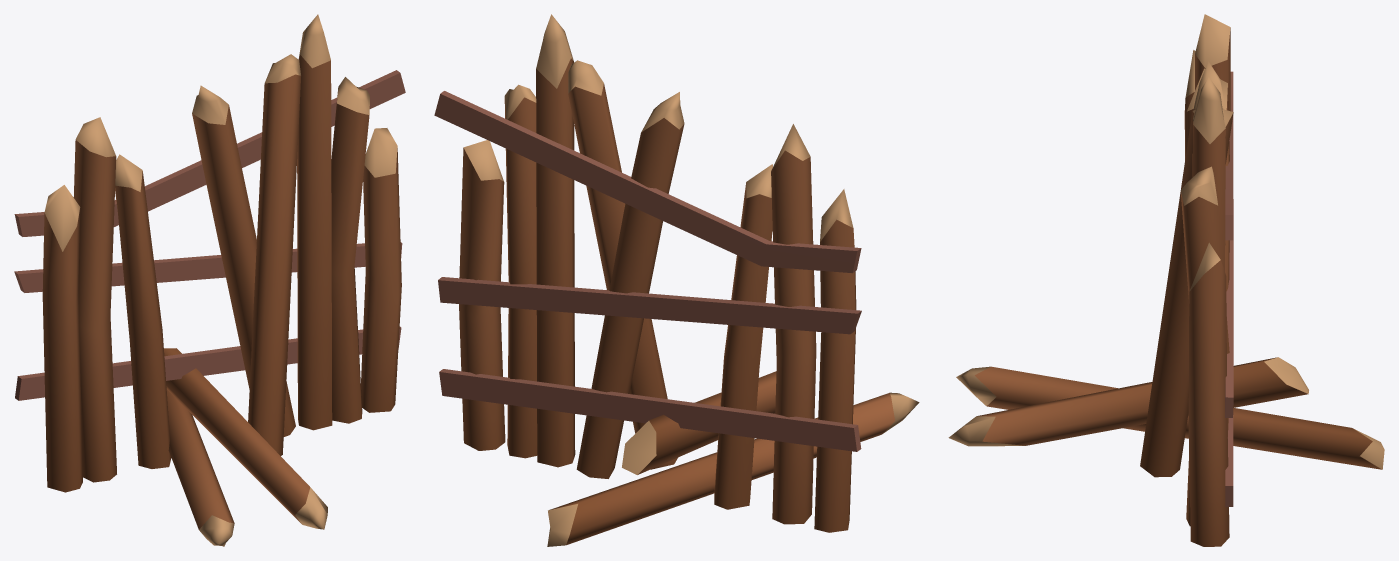
Rendered from Fence_WoodC_E.fbx.
3 views of the same model, side by side, from view 1: azimuth 30°, elevation 25°; view 2: azimuth 150°, elevation 25°; view 3: azimuth 270°, elevation 25° (orthographic). The views are drawn at different scales.
Visible parts, largest first — view 1: Fence_WoodC_E; view 2: Fence_WoodC_E; view 3: Fence_WoodC_E.
Boxes of the visible parts, x1,y1,x2,y2 form: Fence_WoodC_E: (14, 14, 405, 546); Fence_WoodC_E: (434, 14, 919, 546); Fence_WoodC_E: (948, 14, 1384, 546).
Size of the model in its own units: 563 by 569 by 518.
